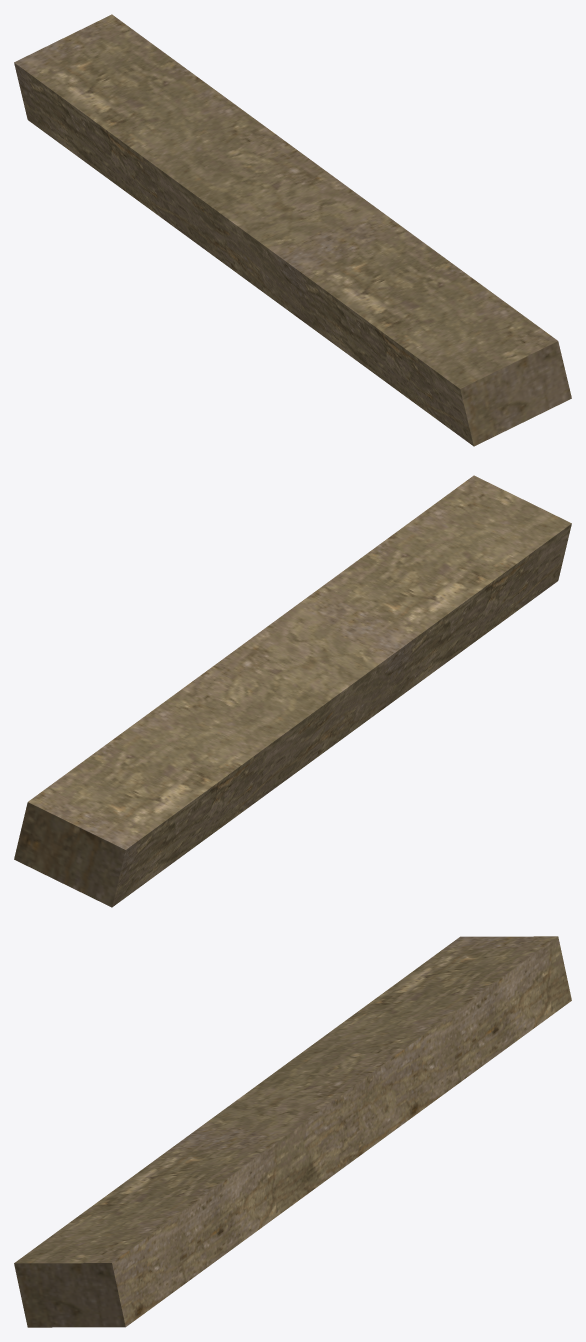
File: BoxWoodA_S.glb
3 renders of one model, top to bottom at view 1: azimuth 30°, elevation 25°; view 2: azimuth 150°, elevation 25°; view 3: azimuth 330°, elevation 25°, orthographic.
Parts seen in each view (by area): view 1: BoxWoodA_S; view 2: BoxWoodA_S; view 3: BoxWoodA_S.
Boxes of the visible parts, x1,y1,x2,y2 form: BoxWoodA_S: (14,14,571,446); BoxWoodA_S: (14,475,571,907); BoxWoodA_S: (14,936,571,1327).
Size of the model in its own units: 0.1683 by 0.1224 by 1.16.
Materials: 1 (1 with a texture image).
